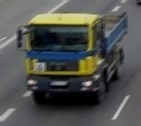truck: (17, 11, 127, 104)
